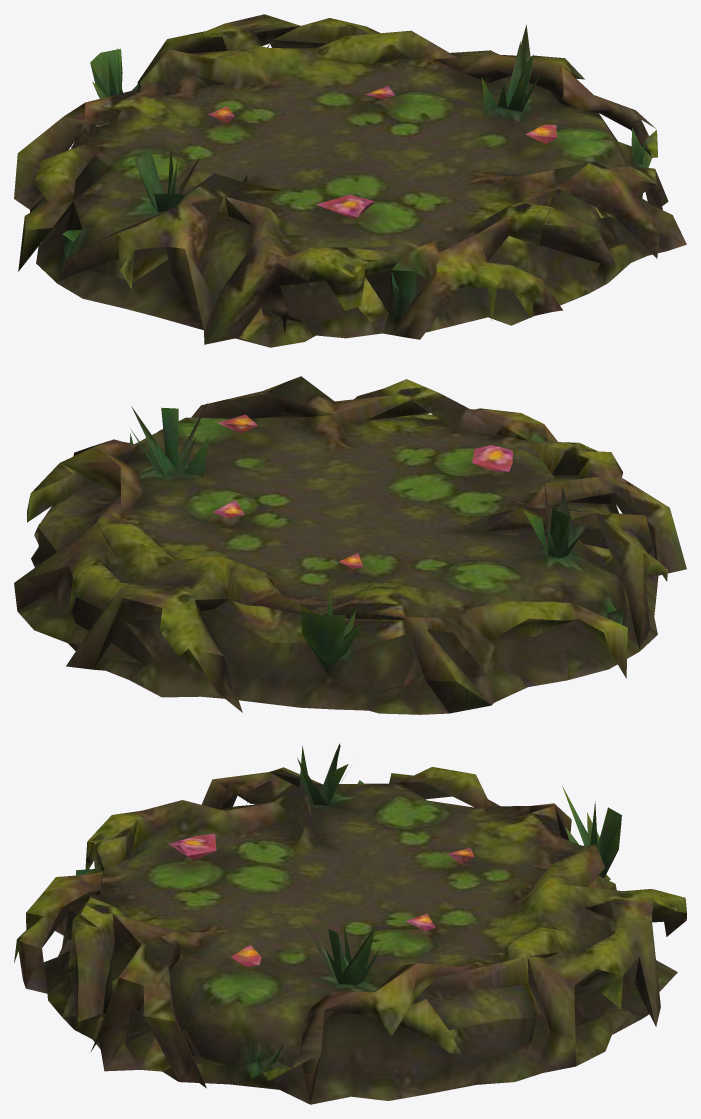
Rendered from d_marais_butte.glb.
3 renders of one model, top to bottom at view 1: azimuth 30°, elevation 25°; view 2: azimuth 150°, elevation 25°; view 3: azimuth 270°, elevation 25°, orthographic. The views are drawn at different scales.
Parts seen in each view (by area): view 1: geometry_0; view 2: geometry_0; view 3: geometry_0.
Part boxes in pixels (box(x1,y1,x2,y2)): geometry_0: box(14, 14, 686, 347); geometry_0: box(14, 376, 686, 714); geometry_0: box(14, 743, 686, 1104).
Size of the model in its own units: 0.9701 by 0.2148 by 0.9389.
1 material, 1 textured.
